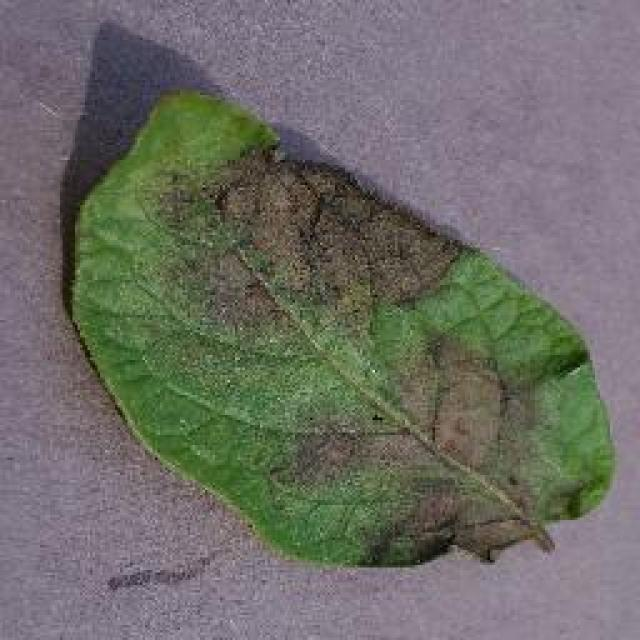late_blight: (62, 82, 618, 572)
